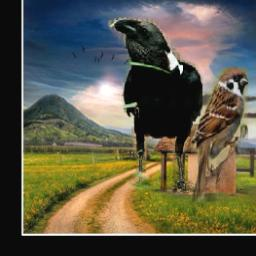Crow: (109, 18, 203, 194)
Sparrow: (192, 67, 249, 202)
